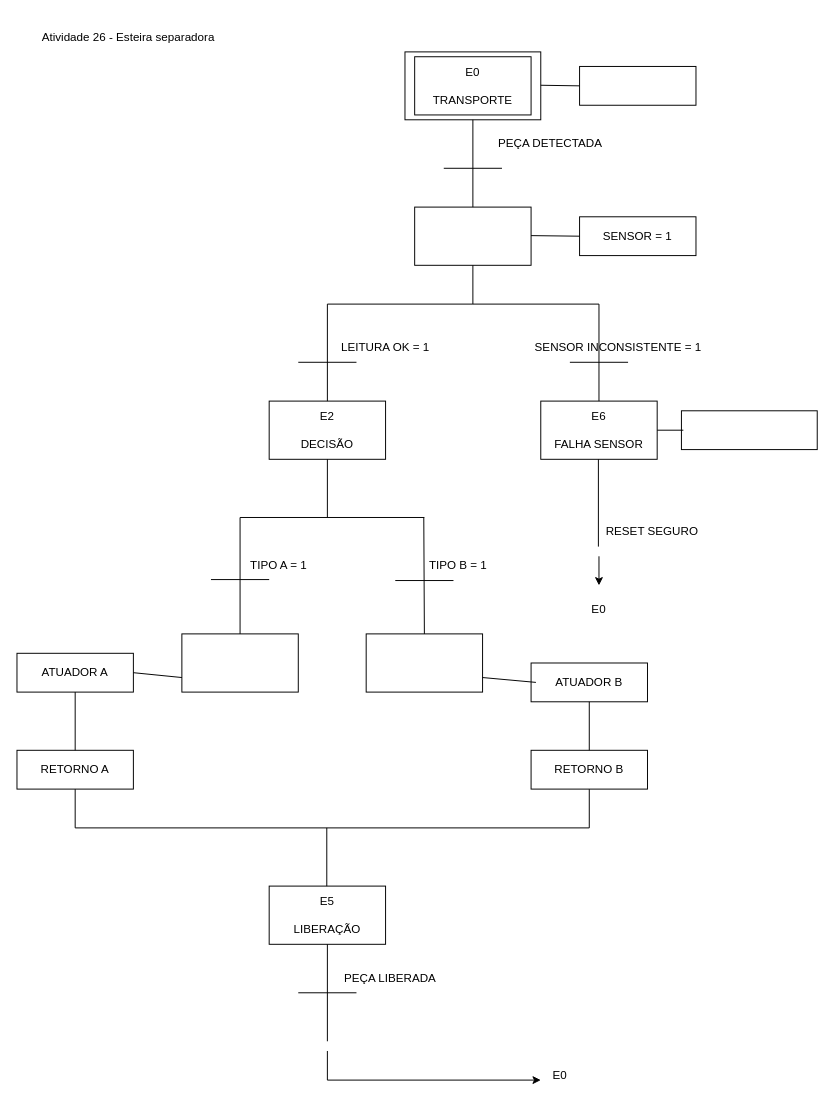
This 836x1107 diagram has some shape labels left out. Here are the shapes that lost their labels. From the top down, the centre of each, then its label:
(637,85): ESTEIRA = 1
(472,235): E1 LEITURA
(748,430): ESTEIRA = 0 SINALIZAR FALHA = 1
(239,662): E3 DESVIO A
(424,662): E4 DESVIO B
